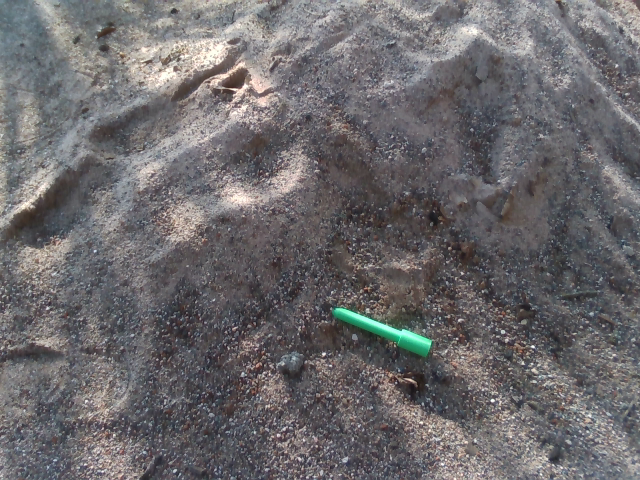Probe: (324, 296, 434, 361)
